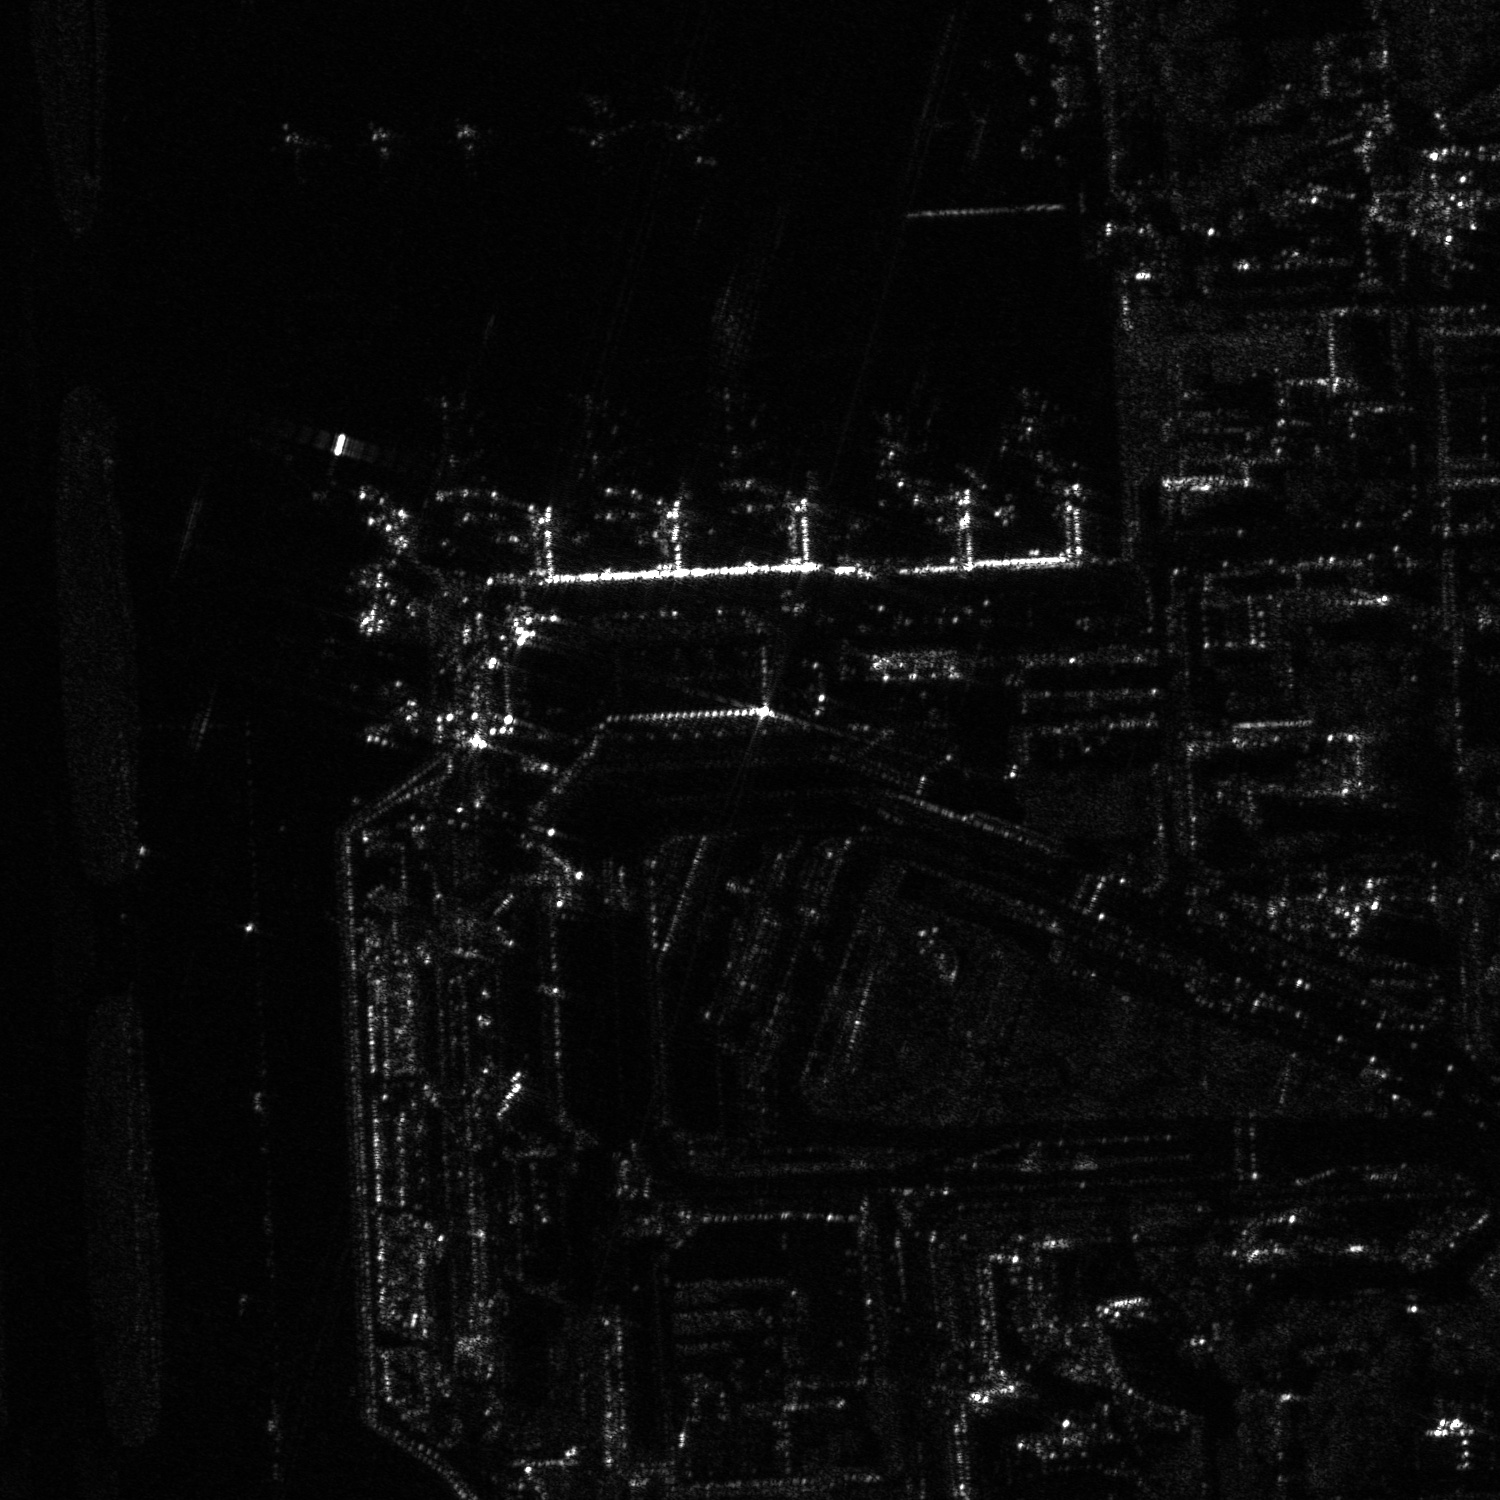A220: (543, 389, 654, 475), (986, 387, 1080, 446), (650, 87, 729, 146), (342, 120, 422, 174)
A320/321: (433, 115, 501, 174)
ARJ21: (253, 120, 335, 188)
Boeing787: (684, 389, 771, 489), (849, 402, 949, 467)
other: (409, 393, 492, 479), (911, 85, 997, 166), (560, 89, 640, 148)
